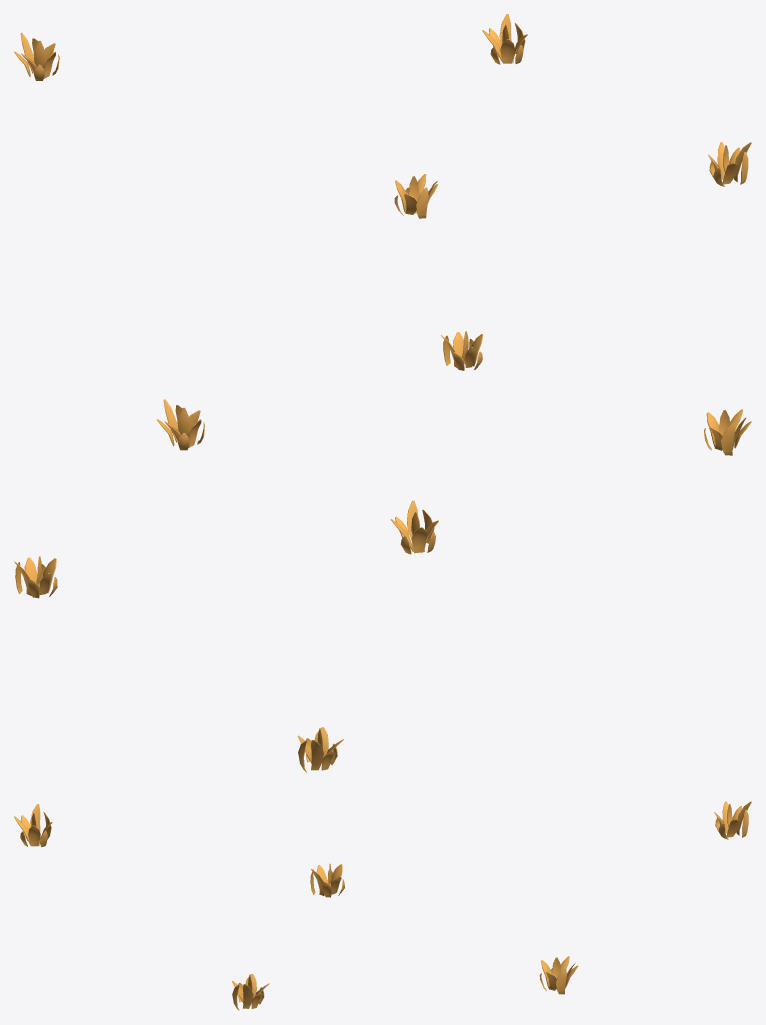
The model's file is a_z2_grass_s_many.fbx.
3 renders of one model, top to bottom at view 1: azimuth 30°, elevation 25°; view 2: azimuth 150°, elevation 25°; view 3: azimuth 270°, elevation 25°, orthographic. The views are drawn at different scales.
Visible parts, largest first — view 1: a_z2_grass_s_many; view 2: a_z2_grass_s_many; view 3: a_z2_grass_s_many.
Boxes of the visible parts, x1,y1,x2,y2 form: a_z2_grass_s_many: [14, 14, 751, 370]; a_z2_grass_s_many: [14, 399, 751, 772]; a_z2_grass_s_many: [14, 801, 751, 1010].
Size of the model in its own units: 446 by 33.71 by 736.
